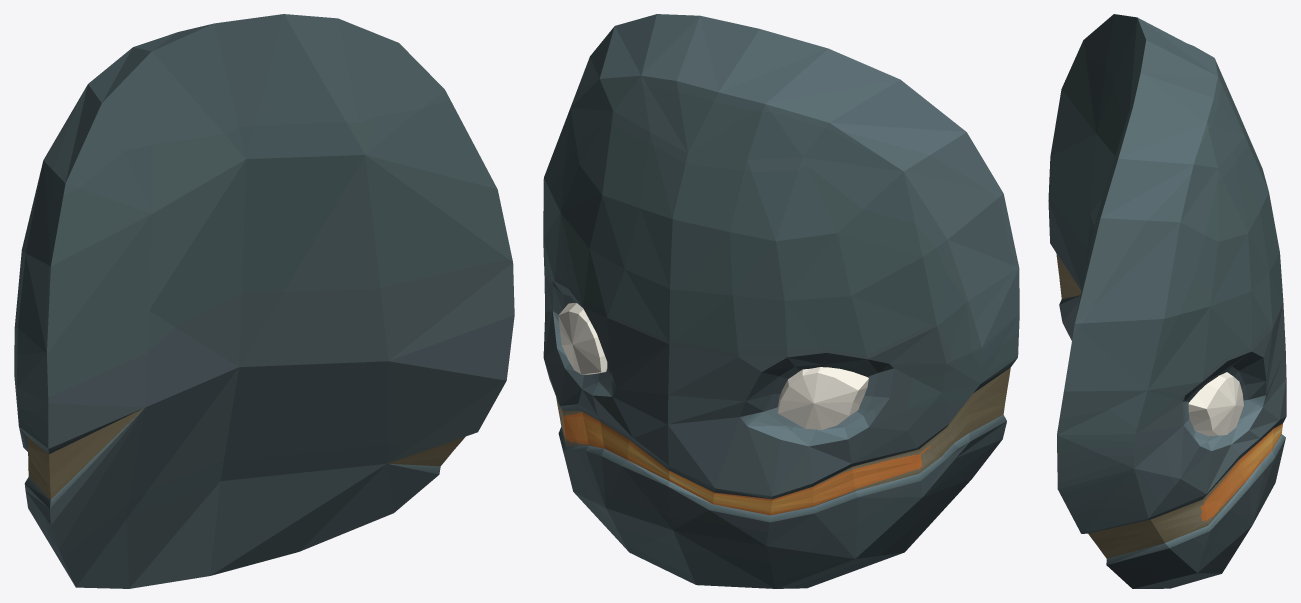
Rendered from CharSkyKid_Mask_AP29RepairedE.glb.
The picture shows the model from 3 angles, left to right: view 1: azimuth 30°, elevation 25°; view 2: azimuth 150°, elevation 25°; view 3: azimuth 270°, elevation 25°; orthographic projection. The views are drawn at different scales.
Parts seen in each view (by area): view 1: CharSkyKid_Mask_AP29RepairedE; view 2: CharSkyKid_Mask_AP29RepairedE; view 3: CharSkyKid_Mask_AP29RepairedE.
Boxes of the visible parts, <box> form: CharSkyKid_Mask_AP29RepairedE: <box>14,14,514,588</box>; CharSkyKid_Mask_AP29RepairedE: <box>543,14,1019,588</box>; CharSkyKid_Mask_AP29RepairedE: <box>1048,14,1286,588</box>.
Bounding box in the file's own units: 2.15 × 2.49 × 1.04.
1 material, 1 textured.
